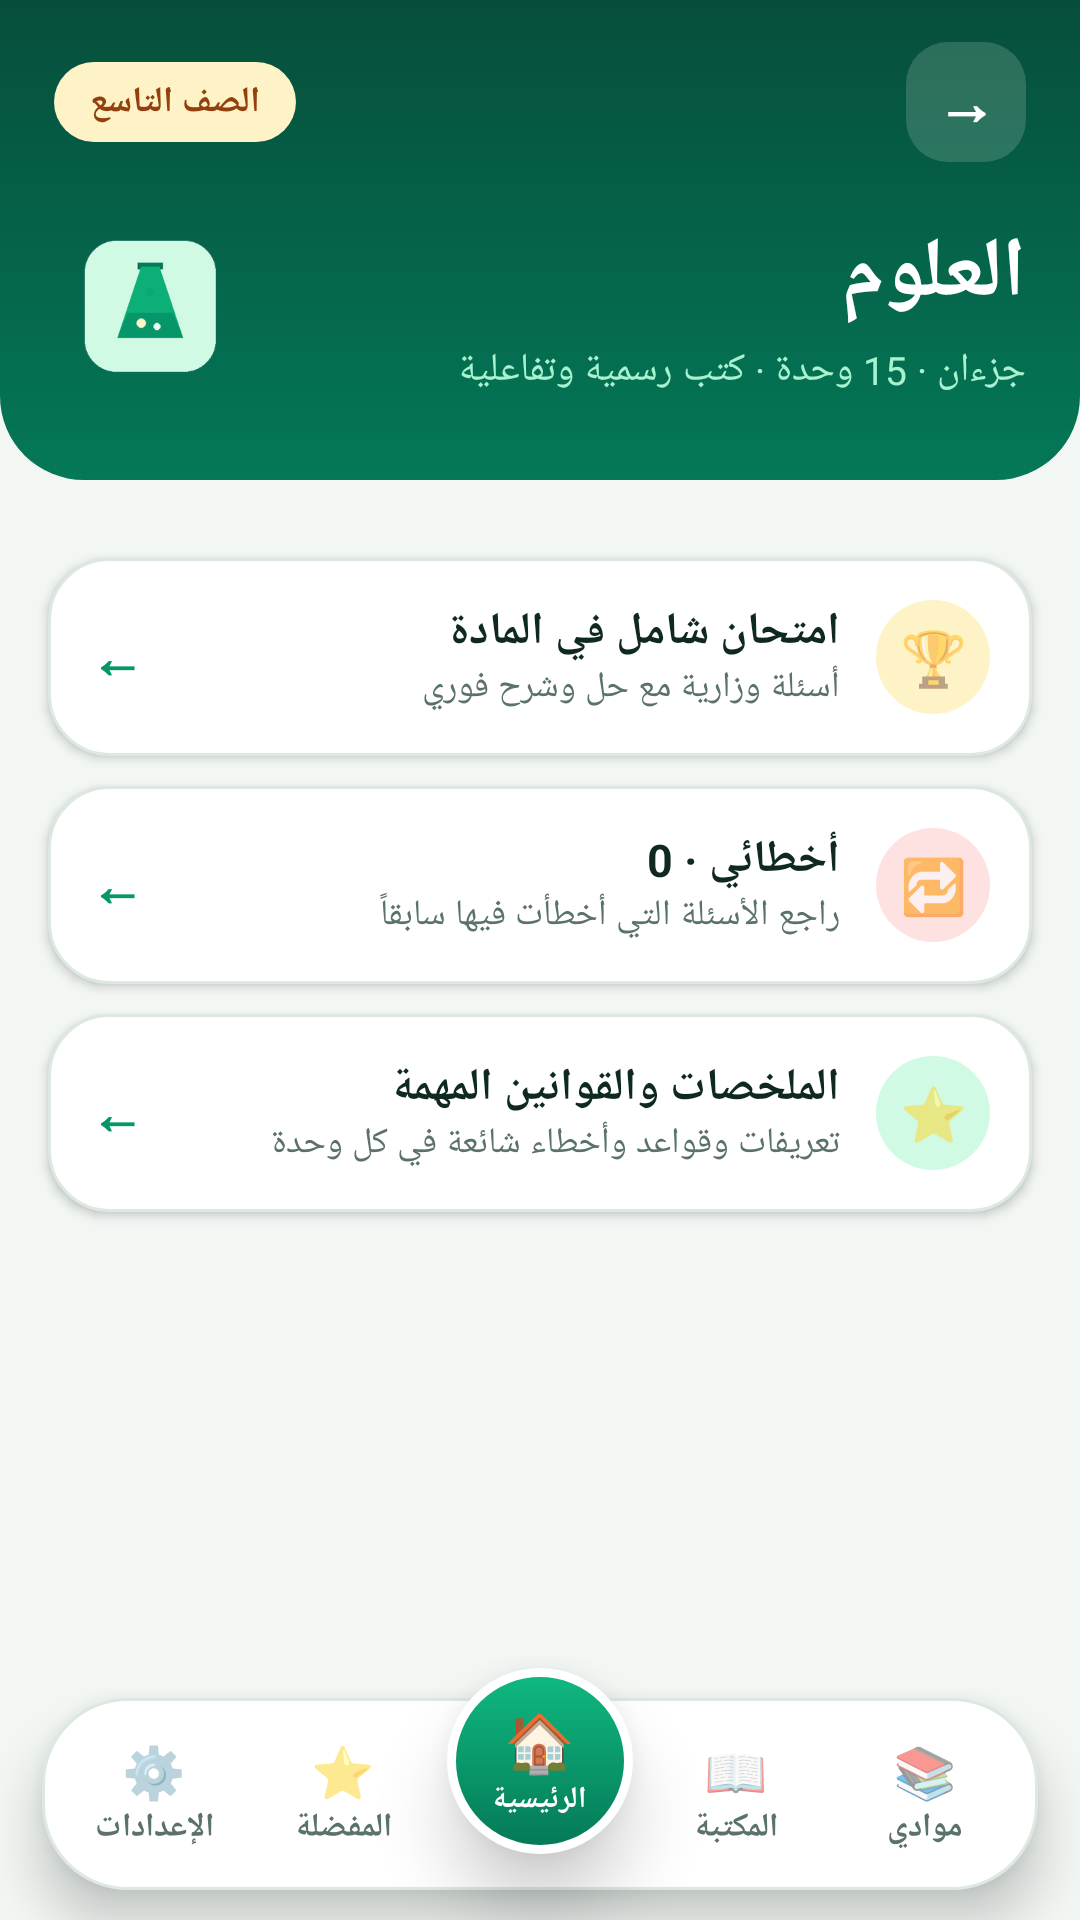

Screen size 1080*1920. Icon name, then its box in pixels as Rect(x1, y1, x2, y2):
subj science: Rect(84, 240, 216, 372)
